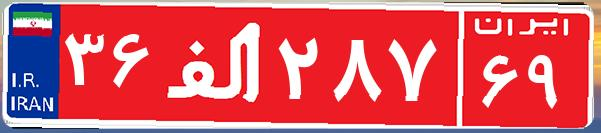2: (273, 28, 330, 110)
3: (57, 26, 110, 107)
6: (475, 38, 525, 113), (110, 28, 158, 105)
7: (385, 28, 445, 110)
8: (330, 28, 385, 110)
9: (525, 38, 570, 115)
الف: (158, 15, 273, 115)
